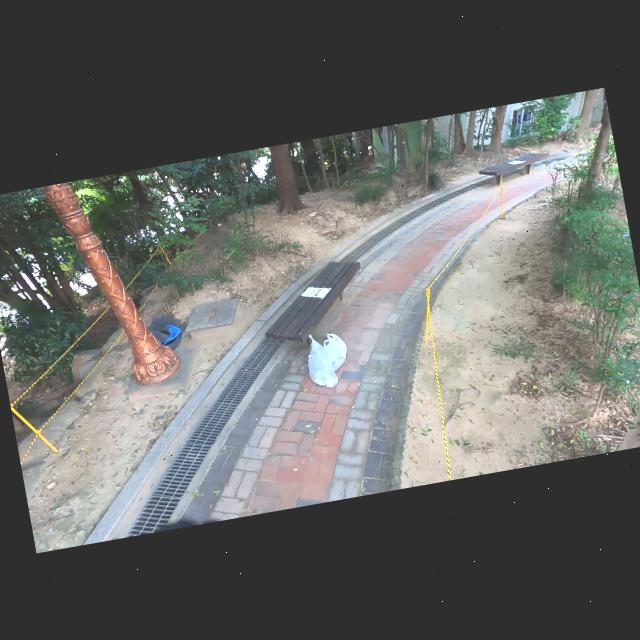trash: (144, 310, 191, 353), (306, 350, 340, 390), (324, 330, 349, 371), (306, 331, 327, 363)
